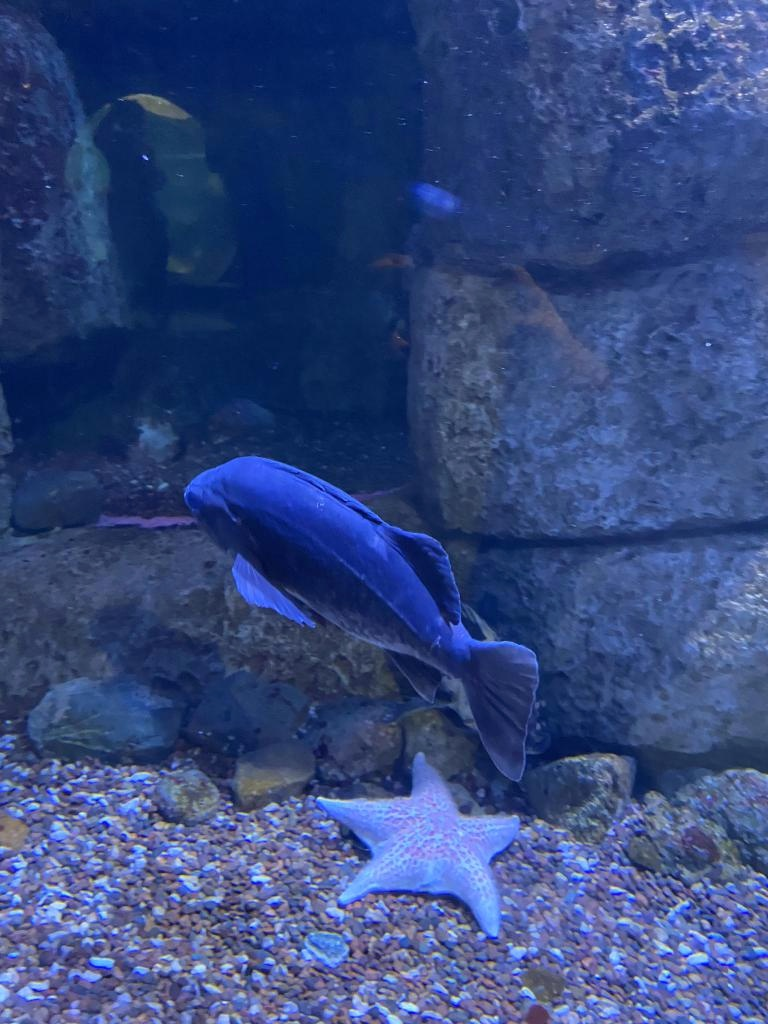fish: (184, 456, 538, 782)
starfish: (318, 752, 522, 940)
